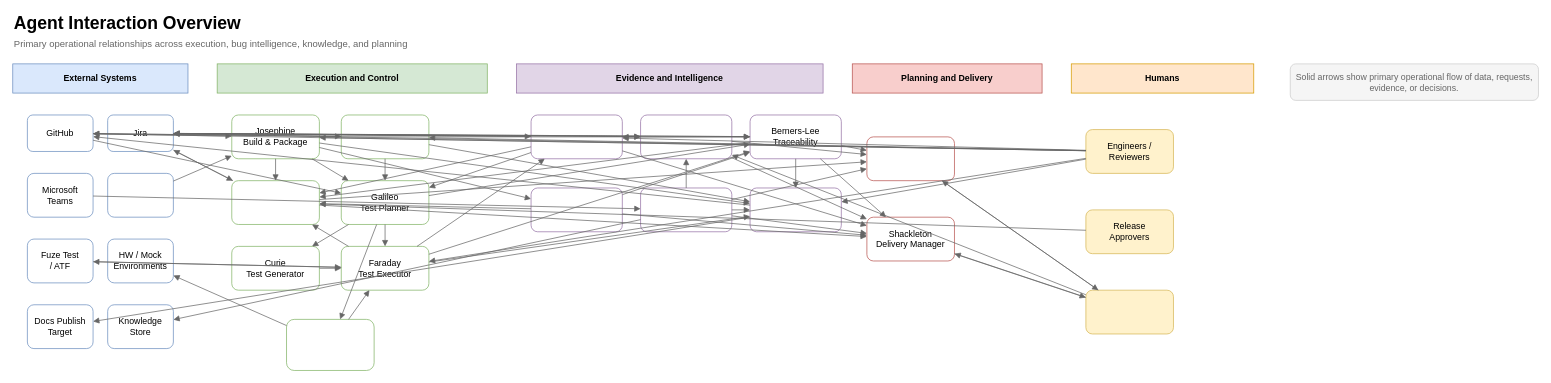
Image size: 1551x383. Some labels were removed from this diagram. Here are the shapes that lost their labels. From the top down, the centre of each, then its label:
At [385,136]: "Linus Code Review".
At [576,136]: "Nightingale Bug Investigation".
At [686,136]: "Drucker Jira Coordinator".
At [910,158]: "Gantt Project Planner".
At [140,195]: "Fuze Config / Build Maps".
At [275,202]: "Humphrey Release Manager".
At [576,209]: "Mercator Version Manager".
At [686,209]: "Pliny Knowledge Capture".
At [795,209]: "Hemingway Documentation".
At [1129,311]: "Project / Delivery Leads".
At [330,344]: "Tesla Environment Manager".
